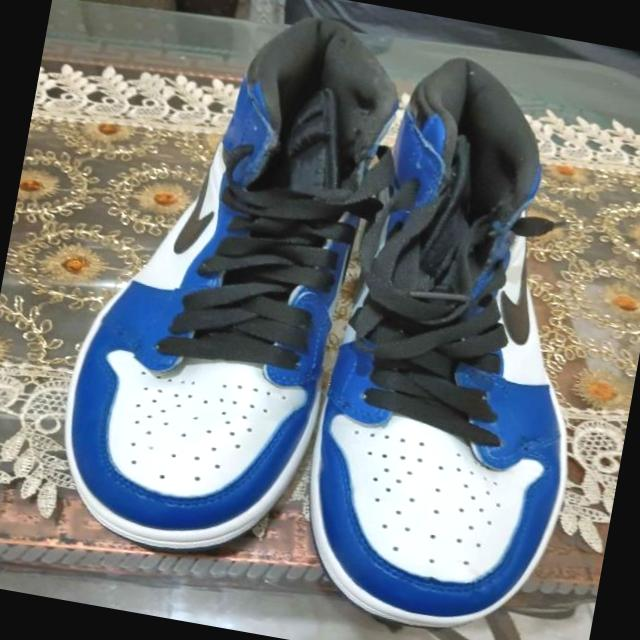nike_fake_jordan: (39, 0, 410, 578), (287, 44, 634, 640)
